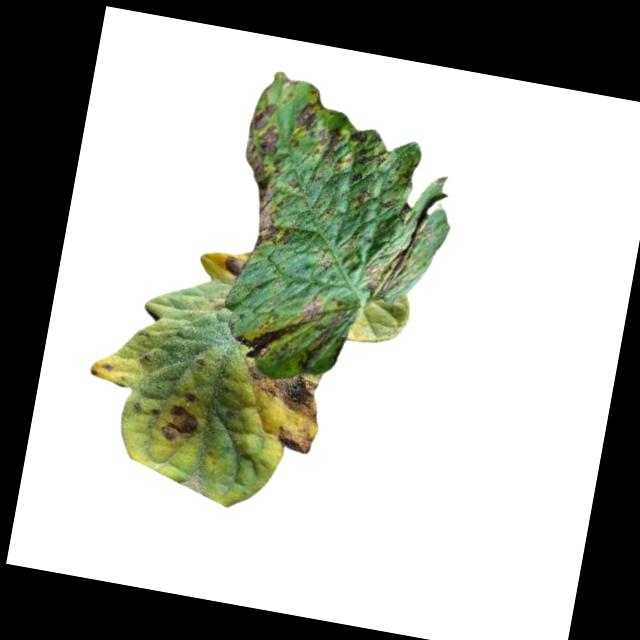Early_blight: (225, 97, 303, 254), (236, 283, 329, 369), (238, 360, 326, 423), (311, 124, 392, 181), (159, 400, 203, 446), (267, 423, 316, 455), (296, 97, 324, 132), (221, 250, 249, 277), (182, 389, 198, 403)
